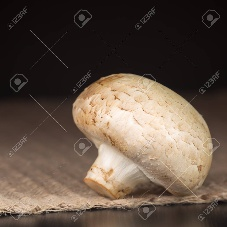mushroom: (72, 69, 217, 202)
